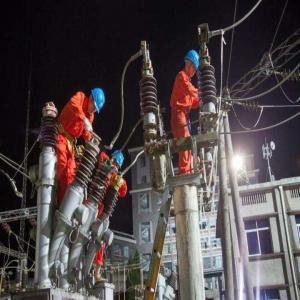blue: (88, 83, 106, 118), (183, 48, 201, 79), (112, 148, 125, 174)
